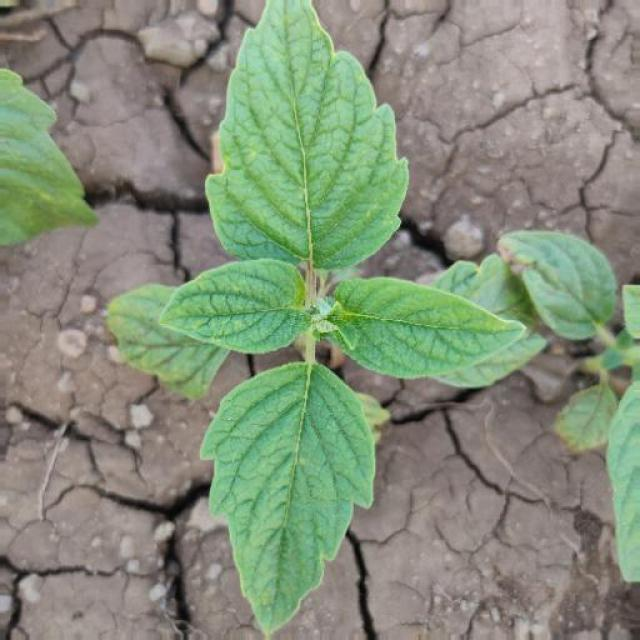crop: (92, 6, 548, 640)
